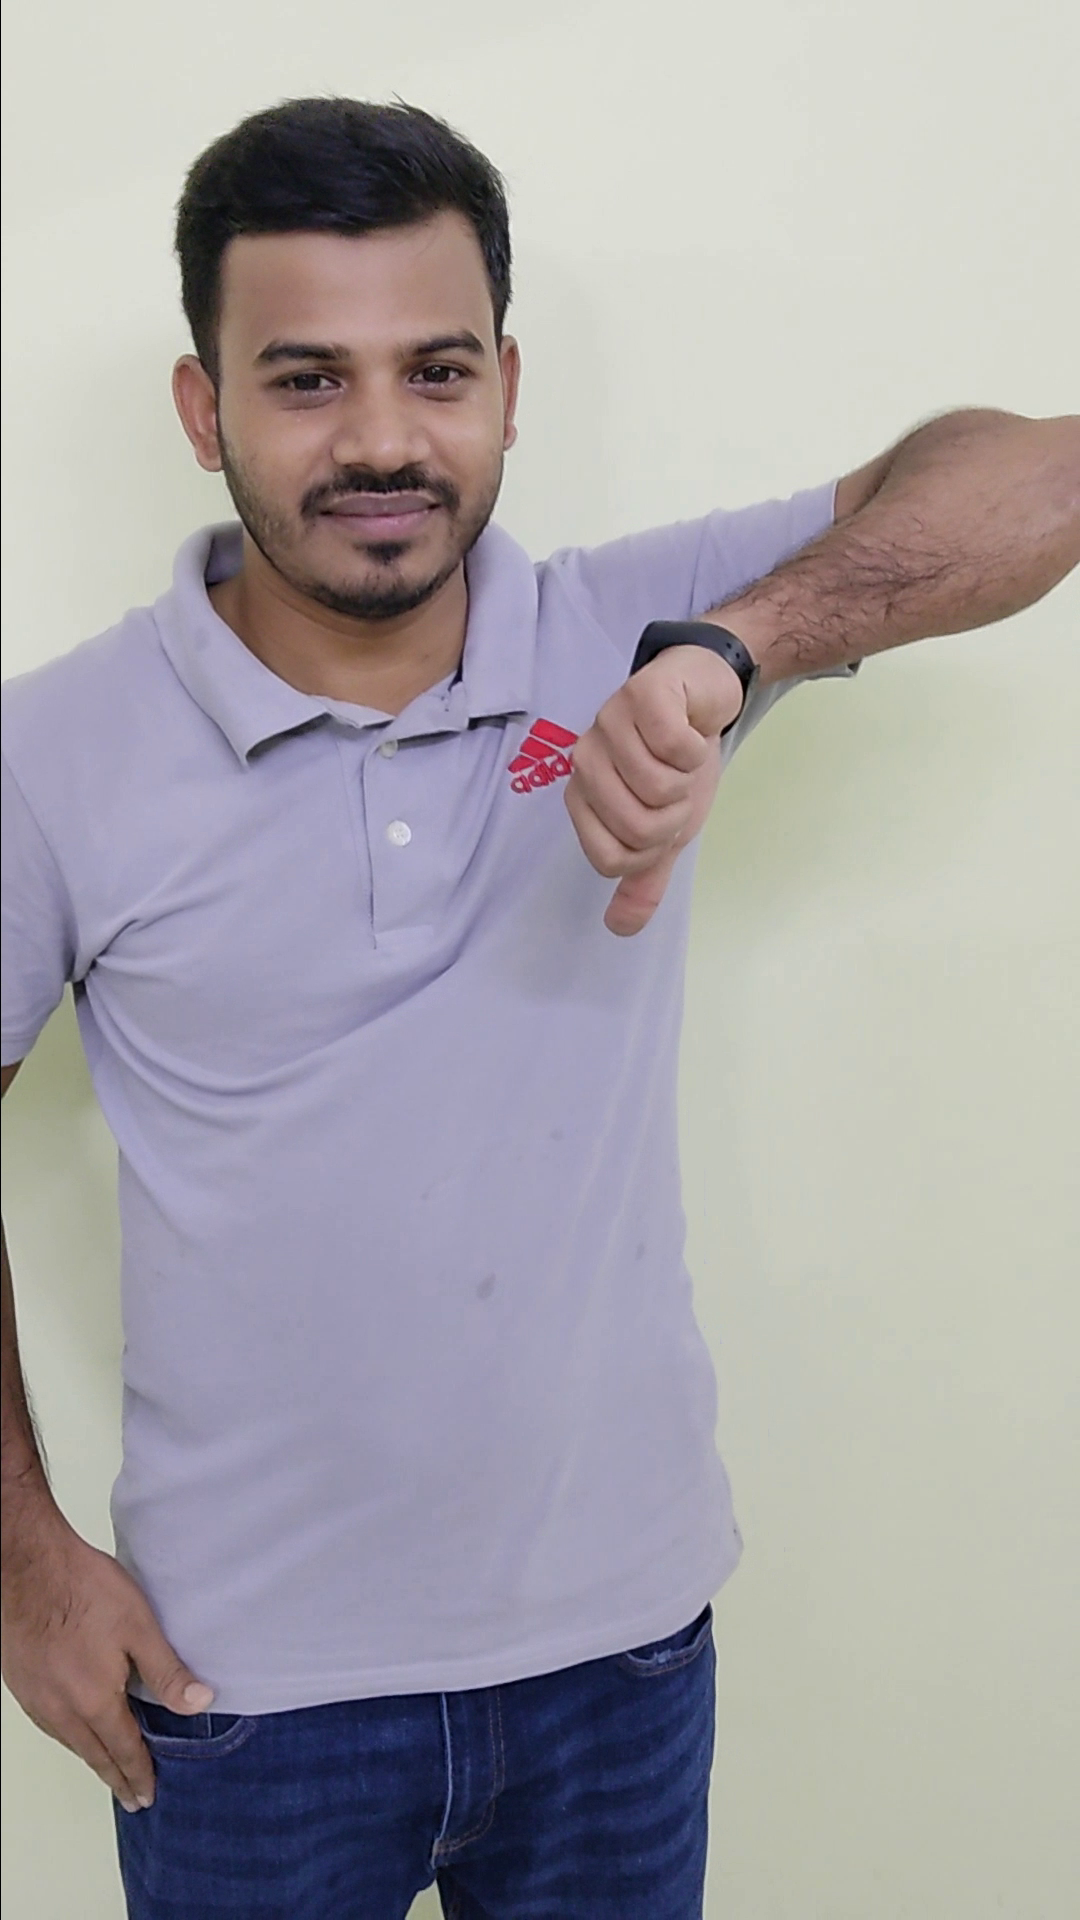Dislike: (541, 578, 767, 951)
None: (0, 1502, 233, 1825)
